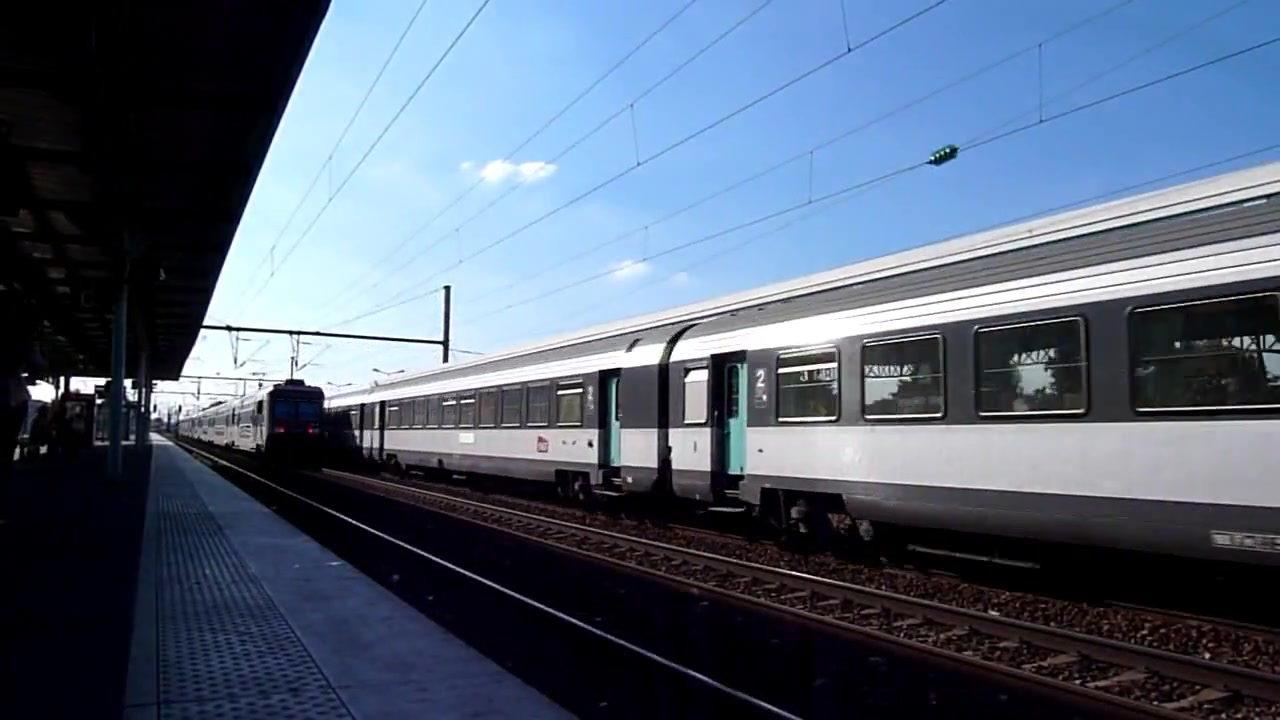train: (176, 379, 336, 460)
